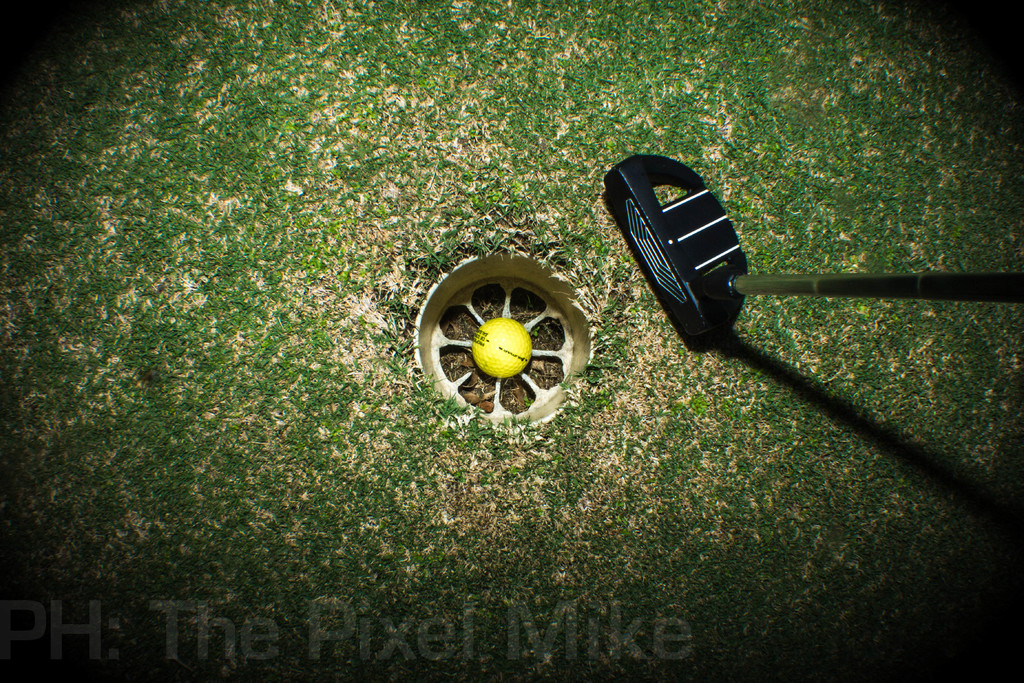Ball: (474, 319, 531, 378)
